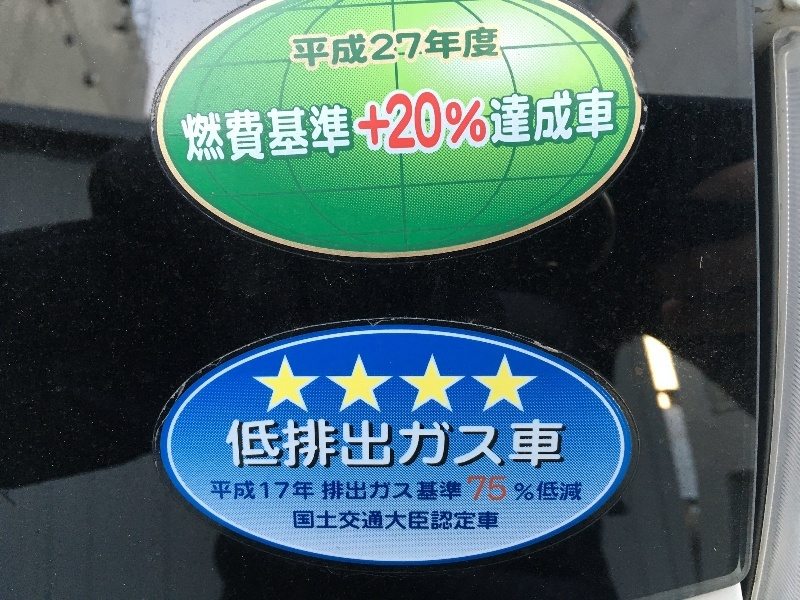text: (193, 79, 208, 168), (209, 79, 224, 168), (225, 79, 240, 168), (241, 79, 256, 168), (257, 79, 272, 168), (273, 79, 288, 168), (289, 79, 304, 168), (305, 79, 320, 168), (321, 79, 336, 168), (337, 79, 352, 168), (353, 79, 368, 168), (369, 79, 384, 168), (385, 79, 400, 168), (401, 79, 416, 168), (417, 79, 432, 168), (433, 79, 448, 168), (449, 79, 464, 168), (465, 79, 480, 168), (481, 79, 496, 168), (497, 79, 512, 168), (513, 79, 528, 168), (529, 79, 544, 168), (545, 79, 560, 168), (561, 79, 576, 168), (577, 79, 592, 168), (593, 79, 608, 168), (609, 79, 622, 168), (180, 79, 192, 168), (225, 417, 240, 470), (241, 417, 256, 470), (257, 417, 272, 470), (273, 417, 288, 470), (289, 417, 304, 470), (305, 417, 320, 470), (321, 417, 336, 470), (337, 417, 352, 470), (353, 417, 368, 470), (369, 417, 384, 470), (385, 417, 400, 470), (401, 417, 416, 470), (417, 417, 432, 470), (433, 417, 448, 470), (449, 417, 464, 470), (465, 417, 480, 470), (481, 417, 496, 470), (497, 417, 512, 470), (513, 417, 528, 470), (529, 417, 544, 470), (545, 417, 560, 470), (305, 24, 320, 75), (321, 24, 336, 75), (337, 24, 352, 75), (353, 24, 368, 75), (369, 24, 384, 75), (385, 24, 400, 75), (401, 24, 416, 75), (417, 24, 432, 75), (433, 24, 448, 75), (449, 24, 464, 75), (465, 24, 480, 75), (481, 24, 496, 75), (291, 24, 304, 75), (337, 475, 352, 504), (353, 475, 368, 504), (369, 475, 384, 504), (385, 475, 400, 504), (401, 475, 416, 504), (417, 475, 432, 504), (433, 475, 448, 504), (449, 475, 464, 504), (465, 475, 480, 504), (481, 475, 496, 504), (497, 475, 512, 504), (513, 475, 528, 504), (529, 475, 544, 504), (545, 475, 560, 504), (561, 475, 576, 504), (497, 24, 505, 75), (323, 475, 336, 504), (305, 509, 320, 533), (321, 509, 336, 533), (337, 509, 352, 533), (353, 509, 368, 533), (369, 509, 384, 533), (385, 509, 400, 533), (401, 509, 416, 533), (417, 509, 432, 533), (433, 509, 448, 533), (449, 509, 464, 533), (465, 509, 480, 533), (481, 509, 496, 533), (209, 479, 224, 502), (225, 479, 240, 502), (241, 479, 256, 502), (257, 479, 272, 502), (273, 479, 288, 502), (289, 479, 304, 502), (561, 417, 567, 470), (292, 509, 304, 533), (305, 479, 315, 502), (577, 475, 583, 504), (497, 509, 500, 533)
